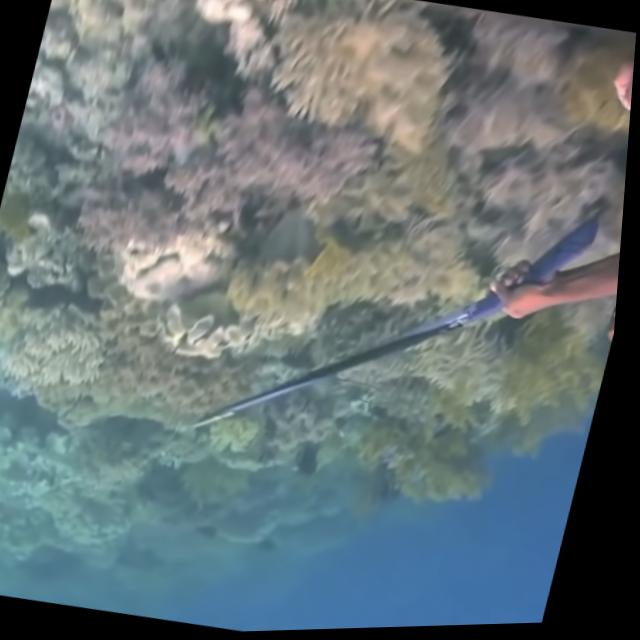human: (456, 24, 638, 445)
